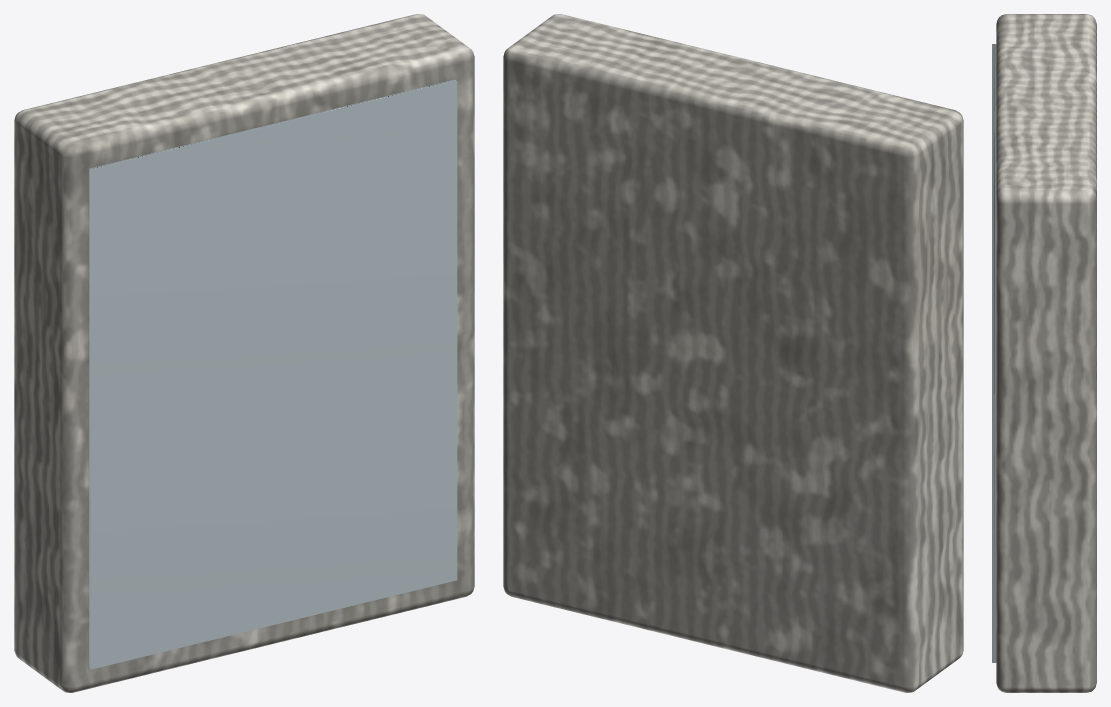
File: lazienka_lustro.glb
3 views of the same model, side by side, from view 1: azimuth 30°, elevation 25°; view 2: azimuth 150°, elevation 25°; view 3: azimuth 270°, elevation 25° (orthographic). The views are drawn at different scales.
Parts seen in each view (by area): view 1: Lustro, Szafka; view 2: Szafka; view 3: Szafka, Lustro.
Boxes of the visible parts, x1,y1,x2,y2 form: Lustro: (89,79,457,669); Szafka: (14,14,474,692); Szafka: (503,14,963,692); Szafka: (996,14,1096,692); Lustro: (992,44,996,662).
Bounding box in the file's own units: 0.52 × 0.66 × 0.125.
Materials: 2 (1 with a texture image).
